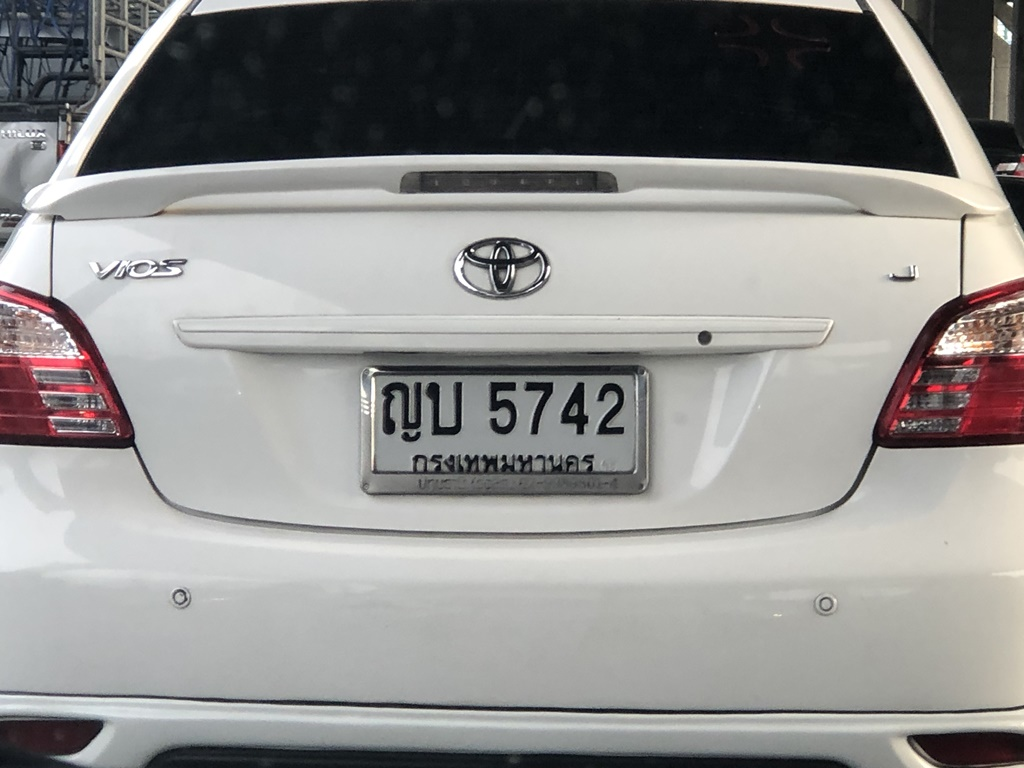five: (482, 375, 521, 439)
four: (553, 378, 597, 444)
seven: (514, 372, 560, 444)
two: (592, 371, 631, 446)
